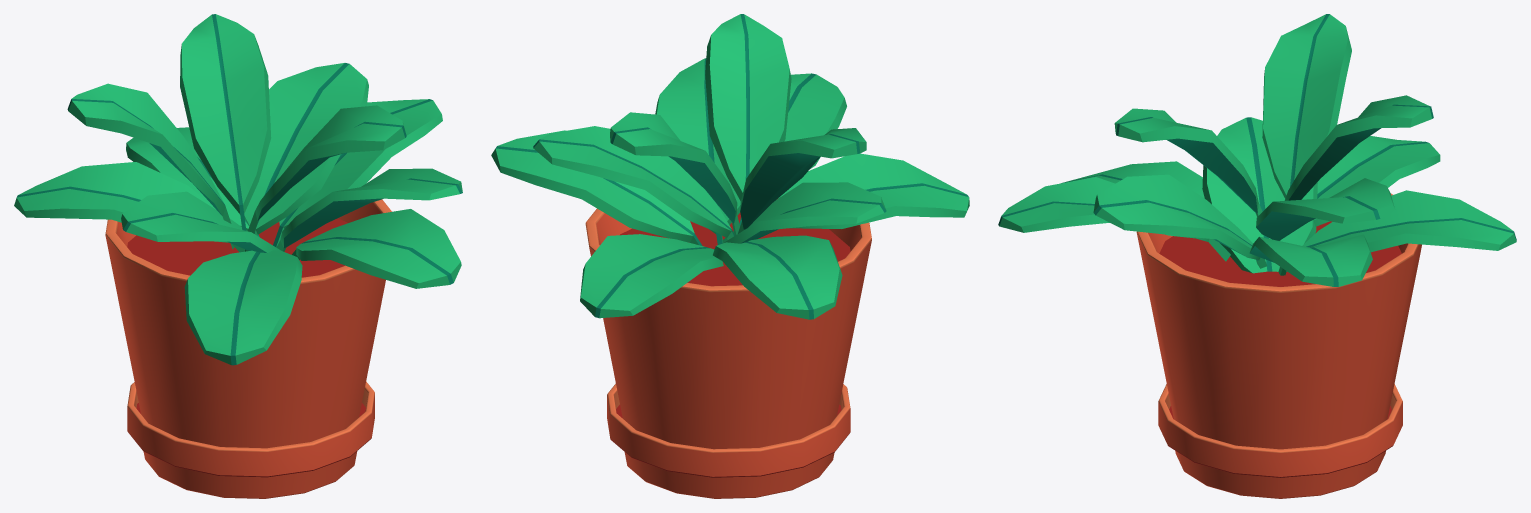
The model's file is M_PlantPot.fbx.
3 renders of one model, left to right at view 1: azimuth 30°, elevation 25°; view 2: azimuth 150°, elevation 25°; view 3: azimuth 270°, elevation 25°, orthographic. The views are drawn at different scales.
Visible parts, largest first — view 1: Pot, Leaf_17, Base, Leaf_6, Leaf_8, Leaf_7, Leaf_2, Leaf_9, Leaf_16, Leaf_1, Leaf_5, Leaf_4 (+1 smaller); view 2: Pot, Base, Leaf_16, Leaf_3, Leaf_2, Leaf_8, Leaf_4, Leaf_6, Leaf_1, Leaf_9, Leaf_17, Leaf_5 (+1 smaller); view 3: Pot, Base, Leaf_9, Leaf_3, Leaf_5, Leaf_1, Leaf_16, Leaf_17, Leaf_2, Leaf_8, Leaf_7, Leaf_4 (+1 smaller).
Boxes of the visible parts, x1,y1,x2,y2 form: Pot: [105, 199, 391, 448]; Leaf_17: [180, 14, 271, 251]; Base: [127, 381, 374, 498]; Leaf_6: [184, 250, 302, 365]; Leaf_8: [244, 63, 368, 235]; Leaf_7: [292, 209, 461, 288]; Leaf_2: [14, 162, 244, 252]; Leaf_9: [67, 83, 234, 249]; Leaf_16: [245, 105, 406, 251]; Leaf_1: [121, 191, 280, 253]; Leaf_5: [276, 168, 462, 251]; Leaf_4: [273, 99, 442, 247]; Pot: [585, 208, 871, 449]; Base: [607, 383, 850, 498]; Leaf_16: [705, 14, 791, 201]; Leaf_3: [580, 234, 723, 318]; Leaf_2: [713, 235, 842, 319]; Leaf_8: [533, 126, 734, 239]; Leaf_4: [491, 130, 702, 245]; Leaf_6: [778, 153, 969, 228]; Leaf_1: [714, 182, 886, 249]; Leaf_9: [738, 128, 866, 233]; Leaf_17: [610, 112, 739, 235]; Leaf_5: [655, 58, 740, 244]; Pot: [1136, 193, 1421, 449]; Base: [1158, 384, 1402, 498]; Leaf_9: [1262, 14, 1351, 198]; Leaf_3: [1302, 190, 1516, 252]; Leaf_5: [1093, 174, 1267, 268]; Leaf_1: [1202, 117, 1317, 273]; Leaf_16: [1114, 108, 1262, 216]; Leaf_17: [1284, 95, 1433, 200]; Leaf_2: [1313, 136, 1440, 226]; Leaf_8: [1256, 178, 1394, 240]; Leaf_7: [998, 177, 1230, 261]; Leaf_4: [1249, 234, 1372, 286].
Size of the model in its own units: 1.05 by 0.994 by 1.27.
